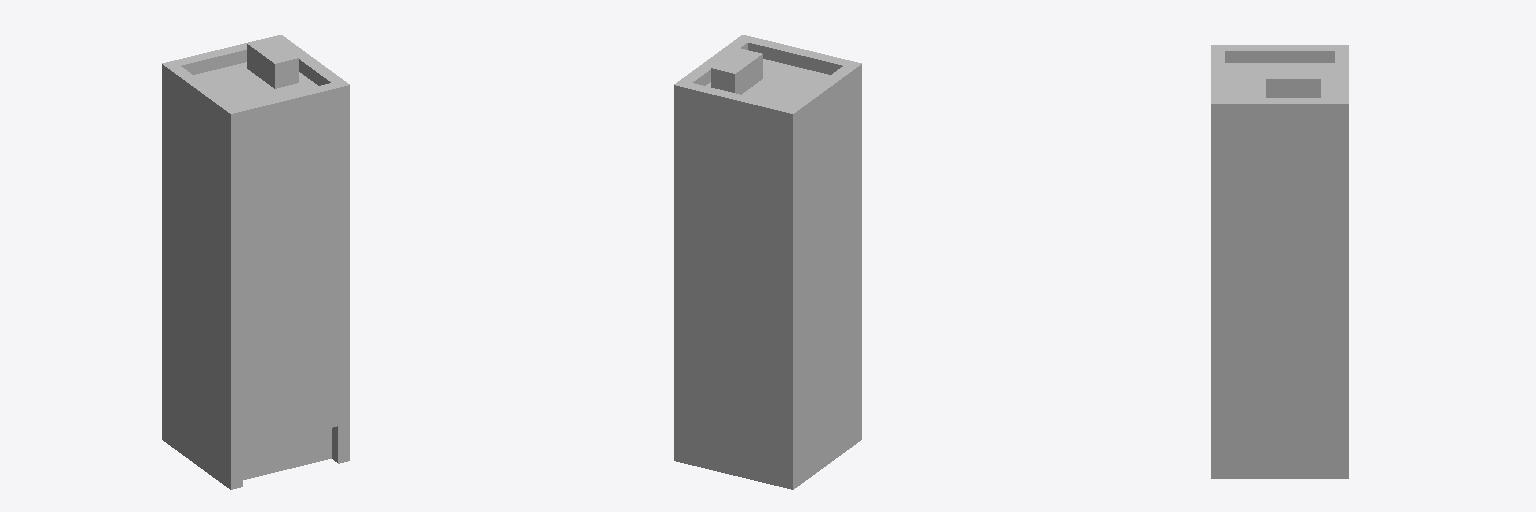
Rendered from low_buildingK.obj.
3 views of the same model, side by side, from view 1: azimuth 30°, elevation 25°; view 2: azimuth 150°, elevation 25°; view 3: azimuth 270°, elevation 25° (orthographic).
Parts seen in each view (by area): view 1: low_buildingK; view 2: low_buildingK; view 3: low_buildingK.
Part boxes in pixels (left/top/right/bottom): low_buildingK: left=162, top=35, right=349, bottom=489; low_buildingK: left=674, top=35, right=861, bottom=489; low_buildingK: left=1211, top=45, right=1348, bottom=478.
Bounding box in the file's own units: 0.5 × 1.55 × 0.5.